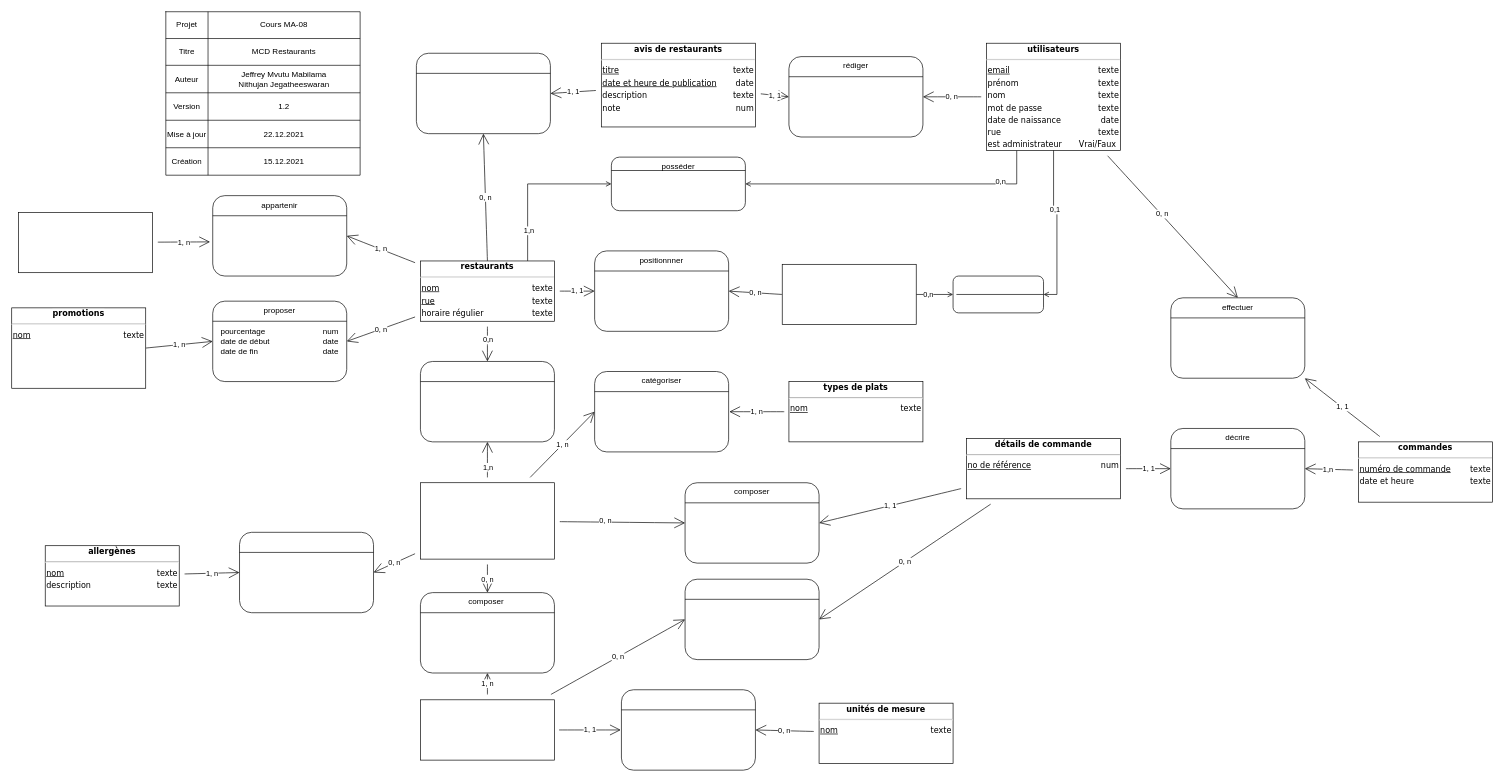
Some shapes in this 1504 by 782 pixel diagram are drawn without their labels. Here are the shapes that lost their labels. From the top down, the centre of each, then its label:
At pixel 483 93: "concerner".
At pixel 85 242: "types de restaurants nom texte description texte".
At pixel 849 294: "quartiers ville texte code postal num".
At pixel 998 294: "habiter".
At pixel 487 401: "servir".
At pixel 487 520: "plats nom texte description texte prix de base num prix soldé num".
At pixel 306 572: "contenir".
At pixel 751 619: "inclure".
At pixel 487 729: "ingrédients (à choix) nom texte quantité num prix num".
At pixel 688 729: "quantifier".
